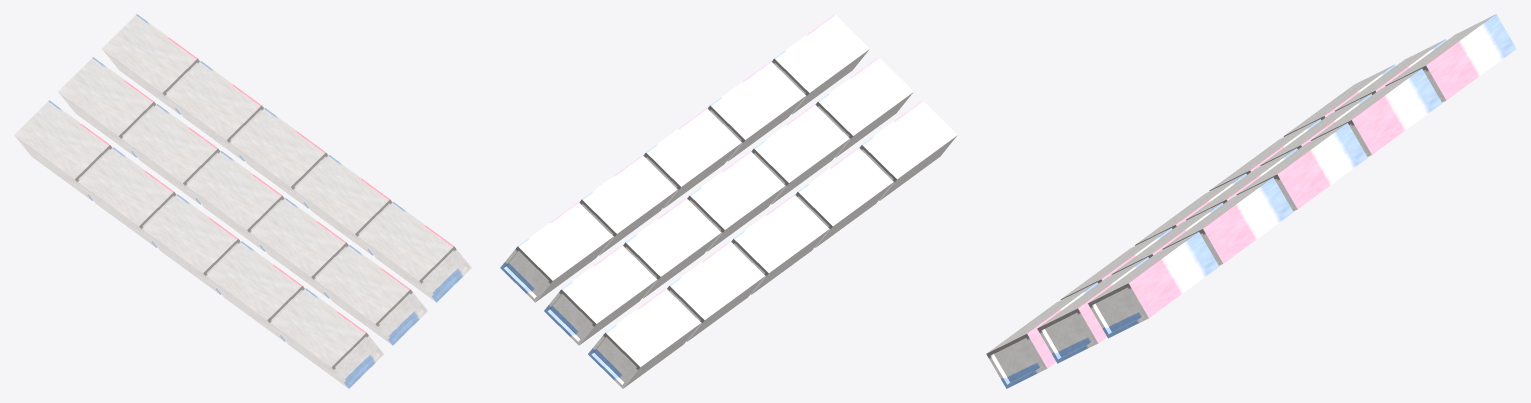
File: Blue_Tin_Candy.fbx
3 renders of one model, left to right at view 1: azimuth 30°, elevation 25°; view 2: azimuth 150°, elevation 25°; view 3: azimuth 330°, elevation 25°, orthographic. The views are drawn at different scales.
Parts seen in each view (by area): view 1: Blue_Tin_Candy; view 2: Blue_Tin_Candy; view 3: Blue_Tin_Candy.
Part boxes in pixels (x1=…): Blue_Tin_Candy: x1=14, y1=14, x2=471, y2=388; Blue_Tin_Candy: x1=500, y1=14, x2=957, y2=388; Blue_Tin_Candy: x1=986, y1=14, x2=1516, y2=388.
Bounding box in the file's own units: 16.28 × 12.96 × 63.71.
